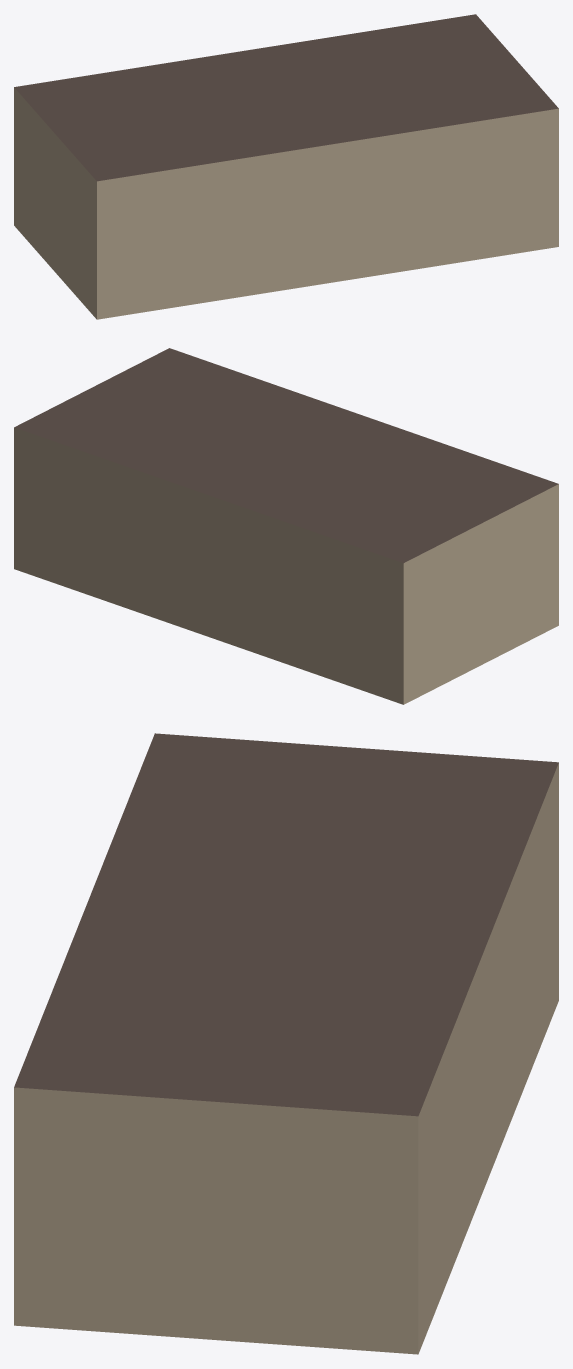
3 renders of one model, top to bottom at view 1: azimuth 30°, elevation 25°; view 2: azimuth 150°, elevation 25°; view 3: azimuth 270°, elevation 25°, orthographic. The views are drawn at different scales.
Visible parts, largest first — view 1: HP-w1318372127; view 2: HP-w1318372127; view 3: HP-w1318372127.
Boxes of the visible parts, left/top/right/bottom form: HP-w1318372127: left=14, top=14, right=558, bottom=319; HP-w1318372127: left=14, top=348, right=558, bottom=704; HP-w1318372127: left=14, top=733, right=558, bottom=1354.
Bounding box in the file's own units: 31.02 × 9 × 18.66.
